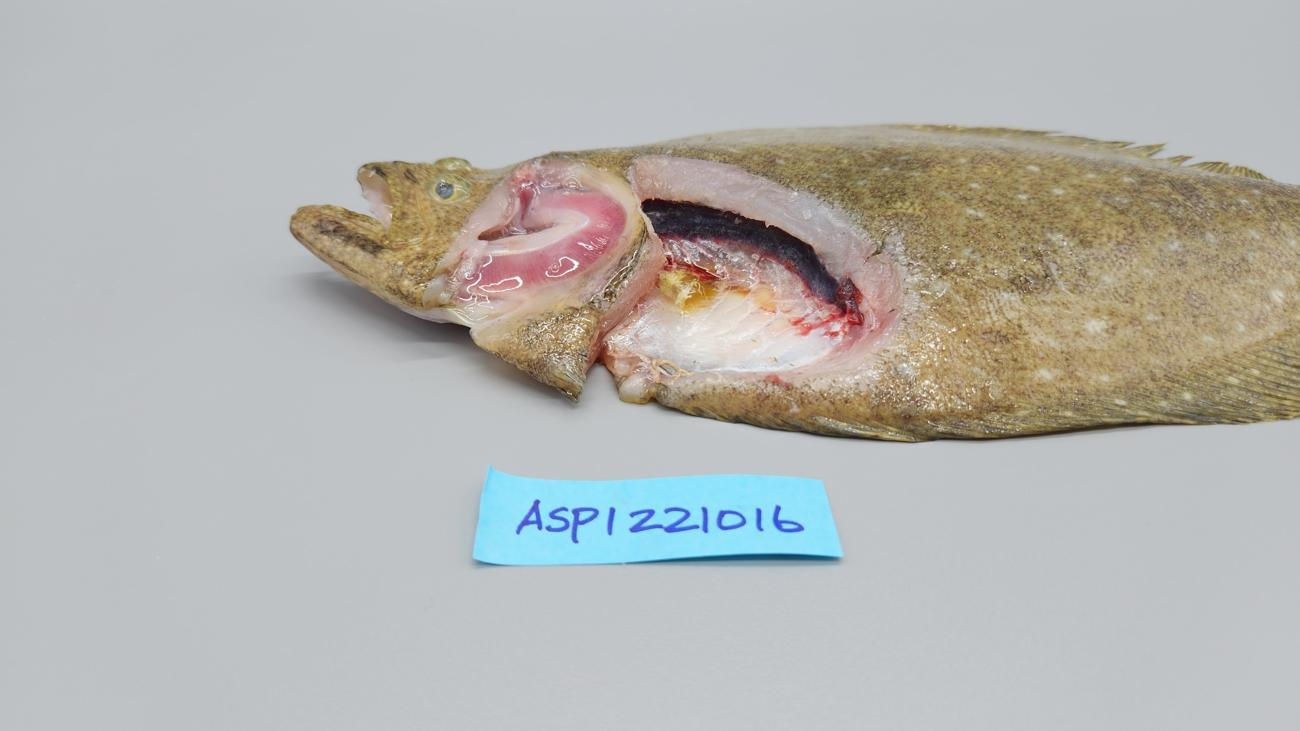SPASQ: (624, 239, 838, 369)
SPKIE: (640, 198, 844, 312)
